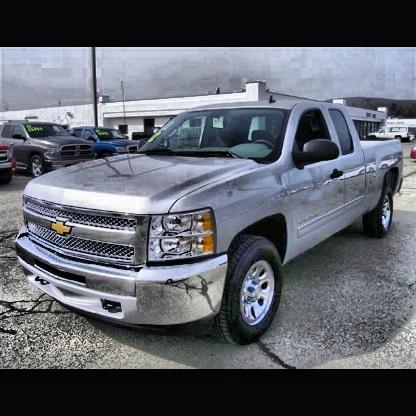Chevrolet Silverado 1500 Extended Cab 2012: (14, 97, 404, 349)
